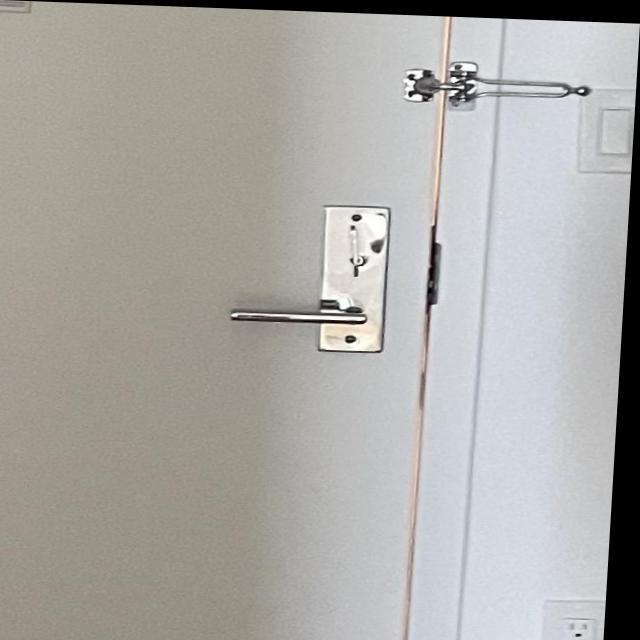door_handle: (221, 281, 399, 343)
